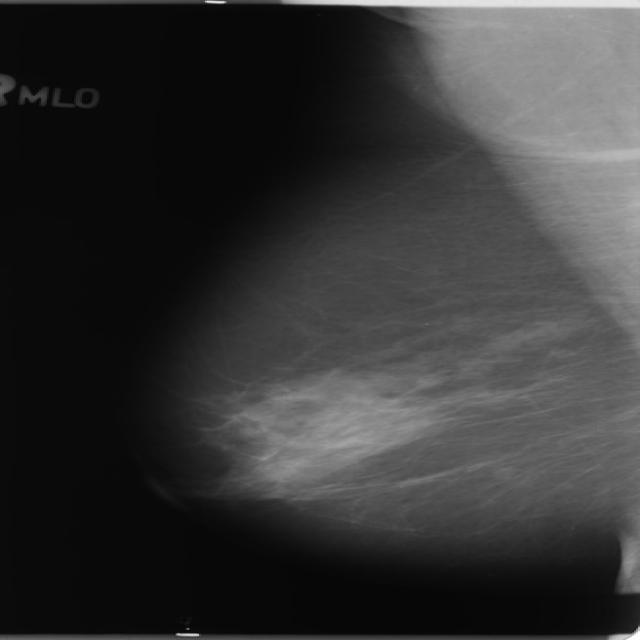tumour: (488, 465, 517, 479)
